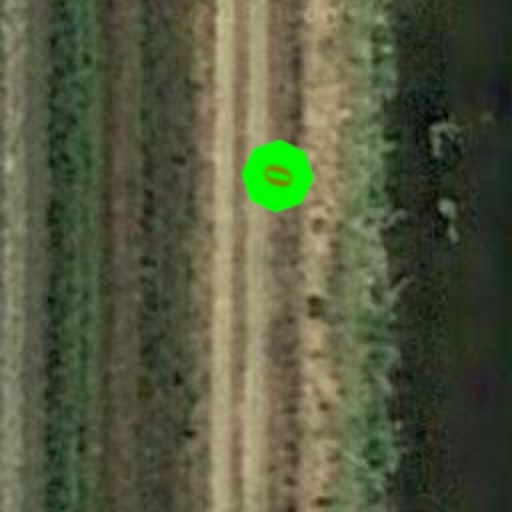octagon: (238, 136, 318, 216)
